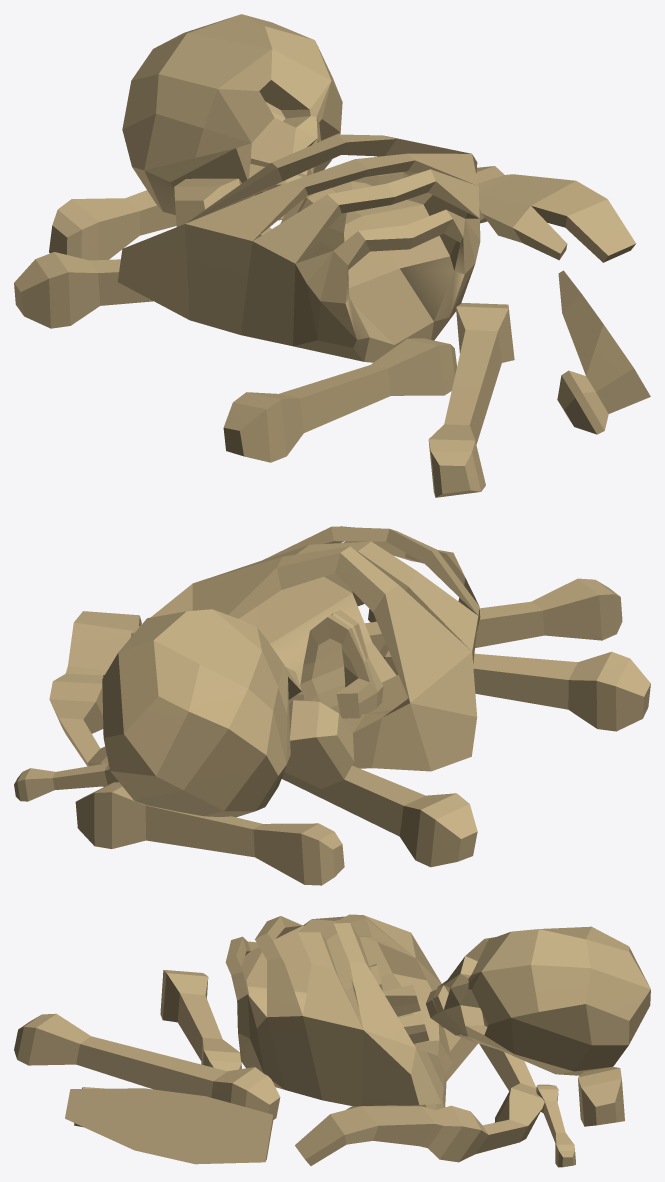
The model's file is Bone_pile_skeleton.fbx.
3 views of the same model, one above another, from view 1: azimuth 30°, elevation 25°; view 2: azimuth 150°, elevation 25°; view 3: azimuth 270°, elevation 25° (orthographic). The views are drawn at different scales.
Parts seen in each view (by area): view 1: Bone_pile_skeleton; view 2: Bone_pile_skeleton; view 3: Bone_pile_skeleton.
Part boxes in pixels (x1=…): Bone_pile_skeleton: x1=14, y1=14, x2=650, y2=497; Bone_pile_skeleton: x1=14, y1=526, x2=650, y2=885; Bone_pile_skeleton: x1=14, y1=914, x2=650, y2=1167.
Size of the model in its own units: 64.06 by 26.9 by 85.92.
